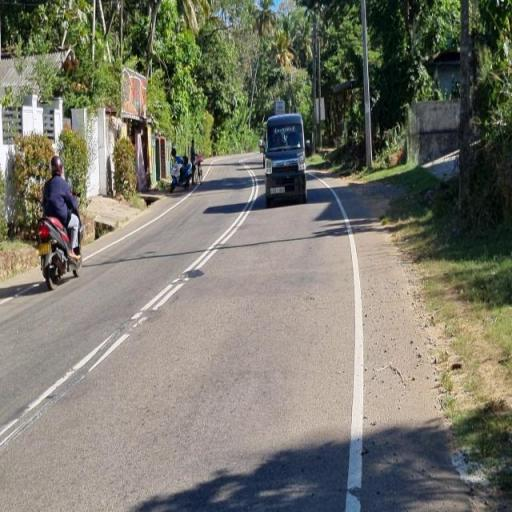double_white_line: (130, 167, 260, 330)
